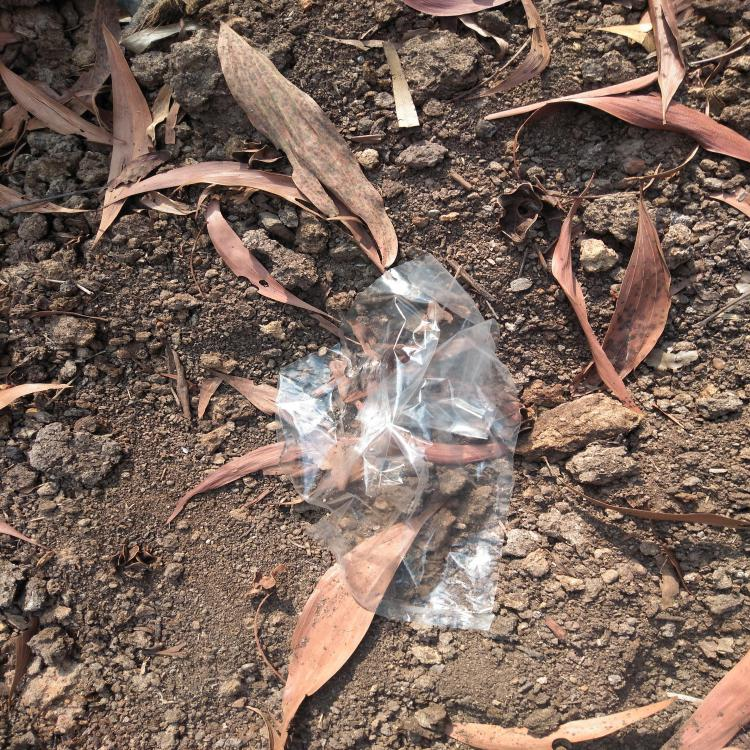Plastic film: (274, 253, 520, 631)
